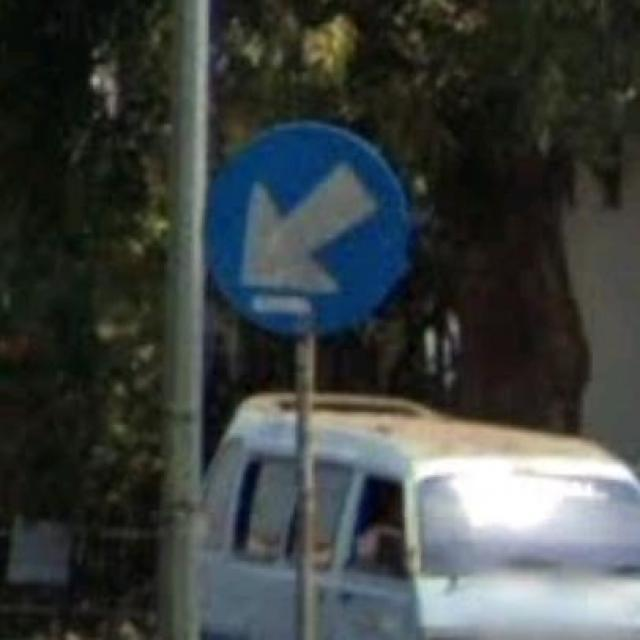traffic sign: (207, 126, 401, 330)
